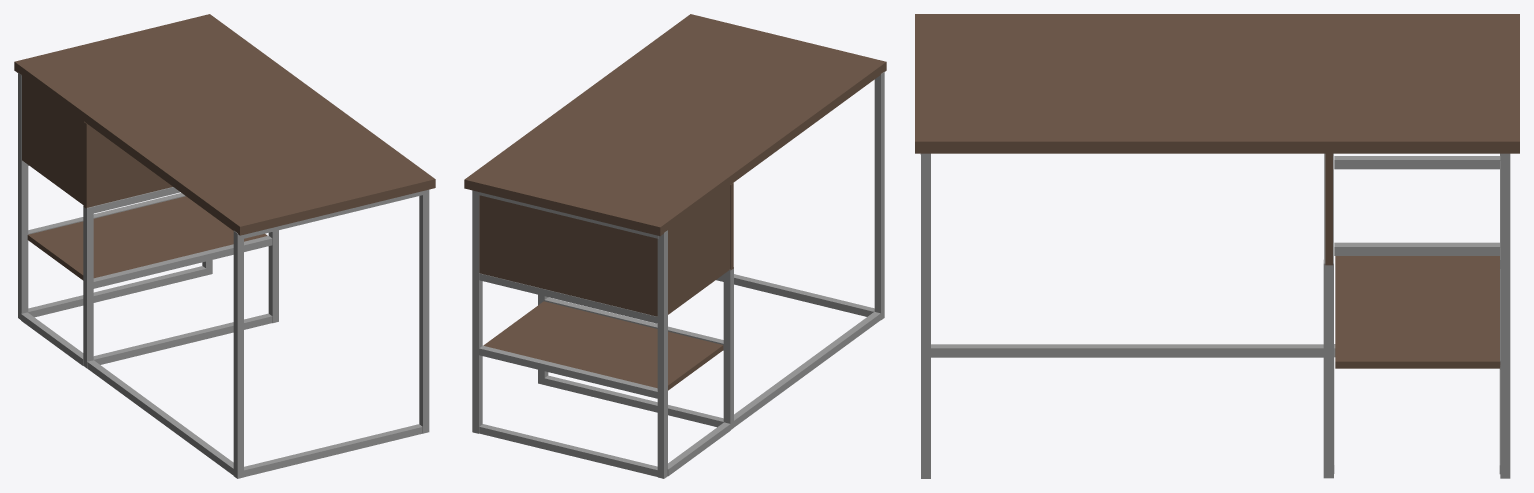
The model's file is Escritorio.fbx.
3 renders of one model, left to right at view 1: azimuth 30°, elevation 25°; view 2: azimuth 150°, elevation 25°; view 3: azimuth 270°, elevation 25°, orthographic. The views are drawn at different scales.
Visible parts, largest first — view 1: escritorio:Mesh; view 2: escritorio:Mesh; view 3: escritorio:Mesh.
Boxes of the visible parts, x1=… form: escritorio:Mesh: x1=14, y1=14, x2=435, y2=478; escritorio:Mesh: x1=464, y1=14, x2=886, y2=478; escritorio:Mesh: x1=915, y1=14, x2=1519, y2=478.
Bounding box in the file's own units: 1.2 × 1.49 × 2.4.
